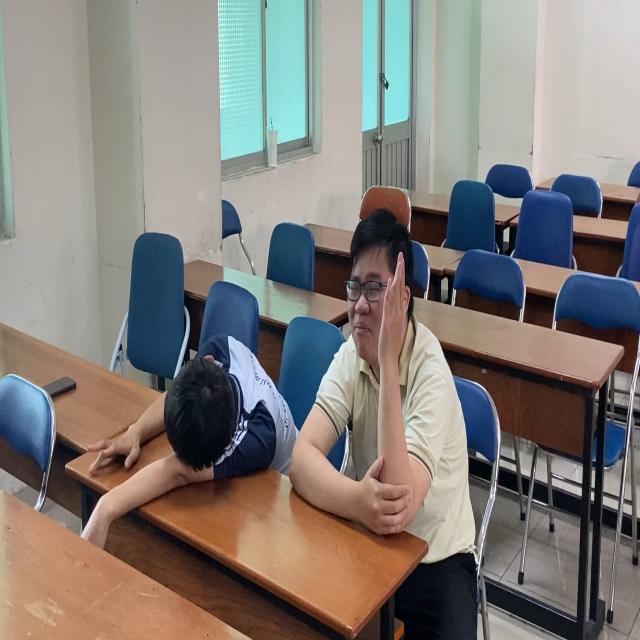raise_hand: (299, 206, 477, 572)
sleep: (71, 324, 292, 497)
